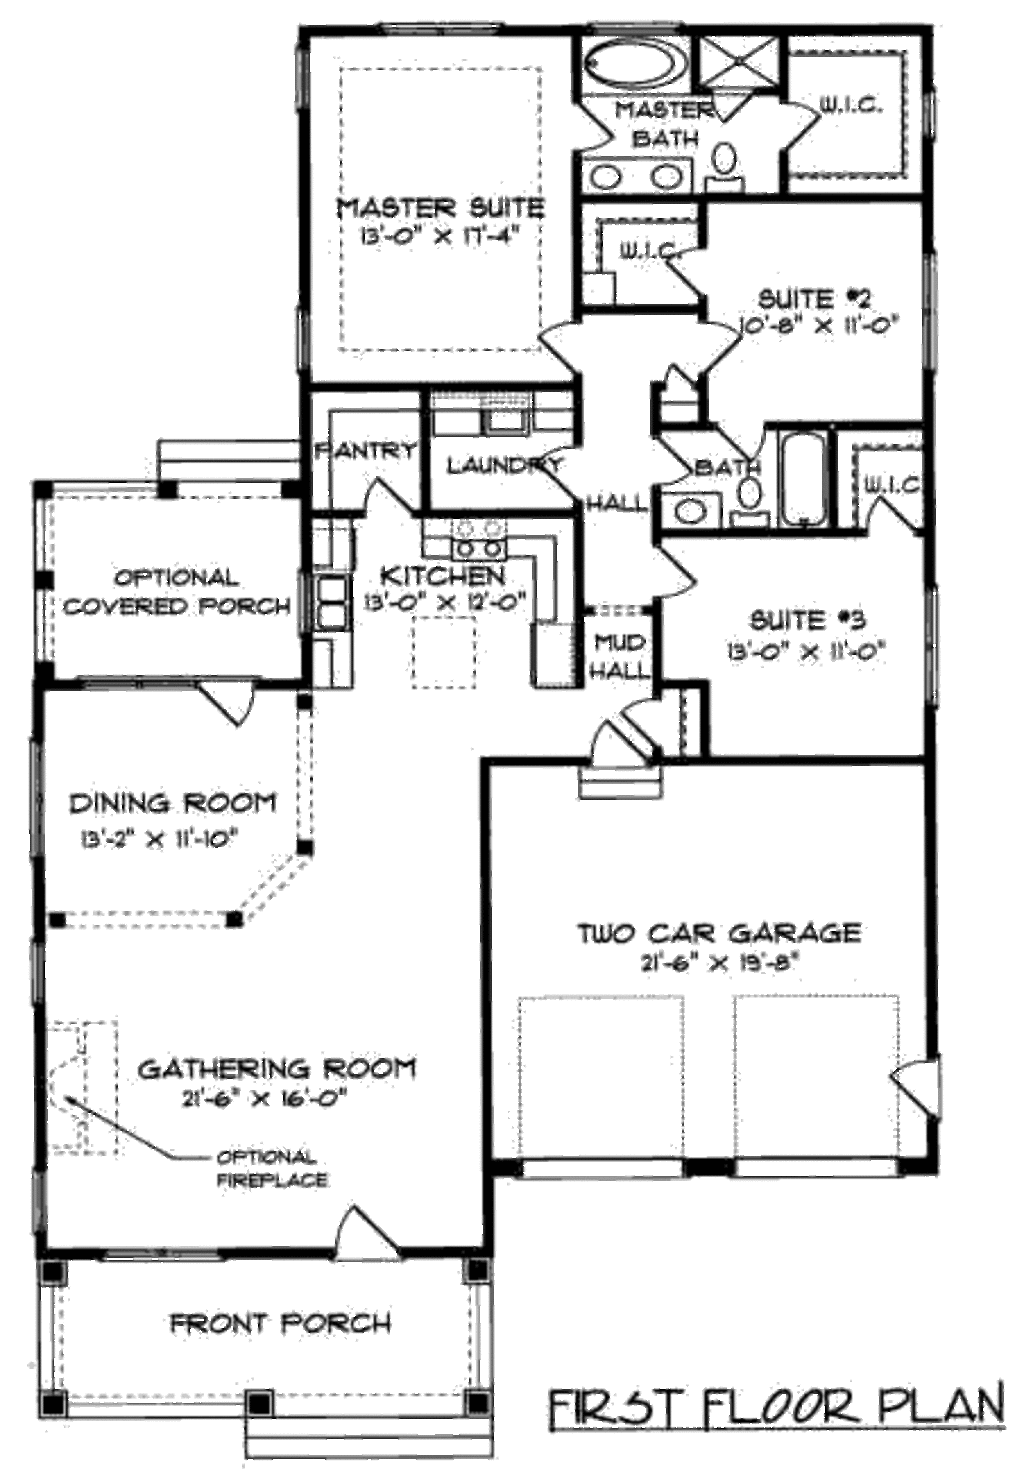door: (571, 709, 675, 804), (185, 655, 292, 736), (882, 1050, 961, 1139), (517, 304, 605, 383), (319, 1195, 410, 1272), (629, 525, 698, 611), (347, 462, 431, 527), (522, 437, 598, 504), (622, 688, 696, 756), (643, 425, 712, 497), (861, 485, 938, 541), (708, 413, 780, 471), (657, 240, 722, 302), (776, 88, 829, 162), (701, 316, 746, 383), (569, 88, 612, 157)
large_sink: (701, 126, 754, 204), (731, 465, 773, 541)
small_sink: (577, 150, 698, 199), (654, 484, 729, 523)
tub: (571, 25, 701, 95), (780, 417, 840, 525)
twin_sink: (273, 562, 366, 636)
window: (731, 1143, 919, 1183), (496, 1148, 696, 1185), (12, 728, 59, 871), (917, 576, 945, 713)
